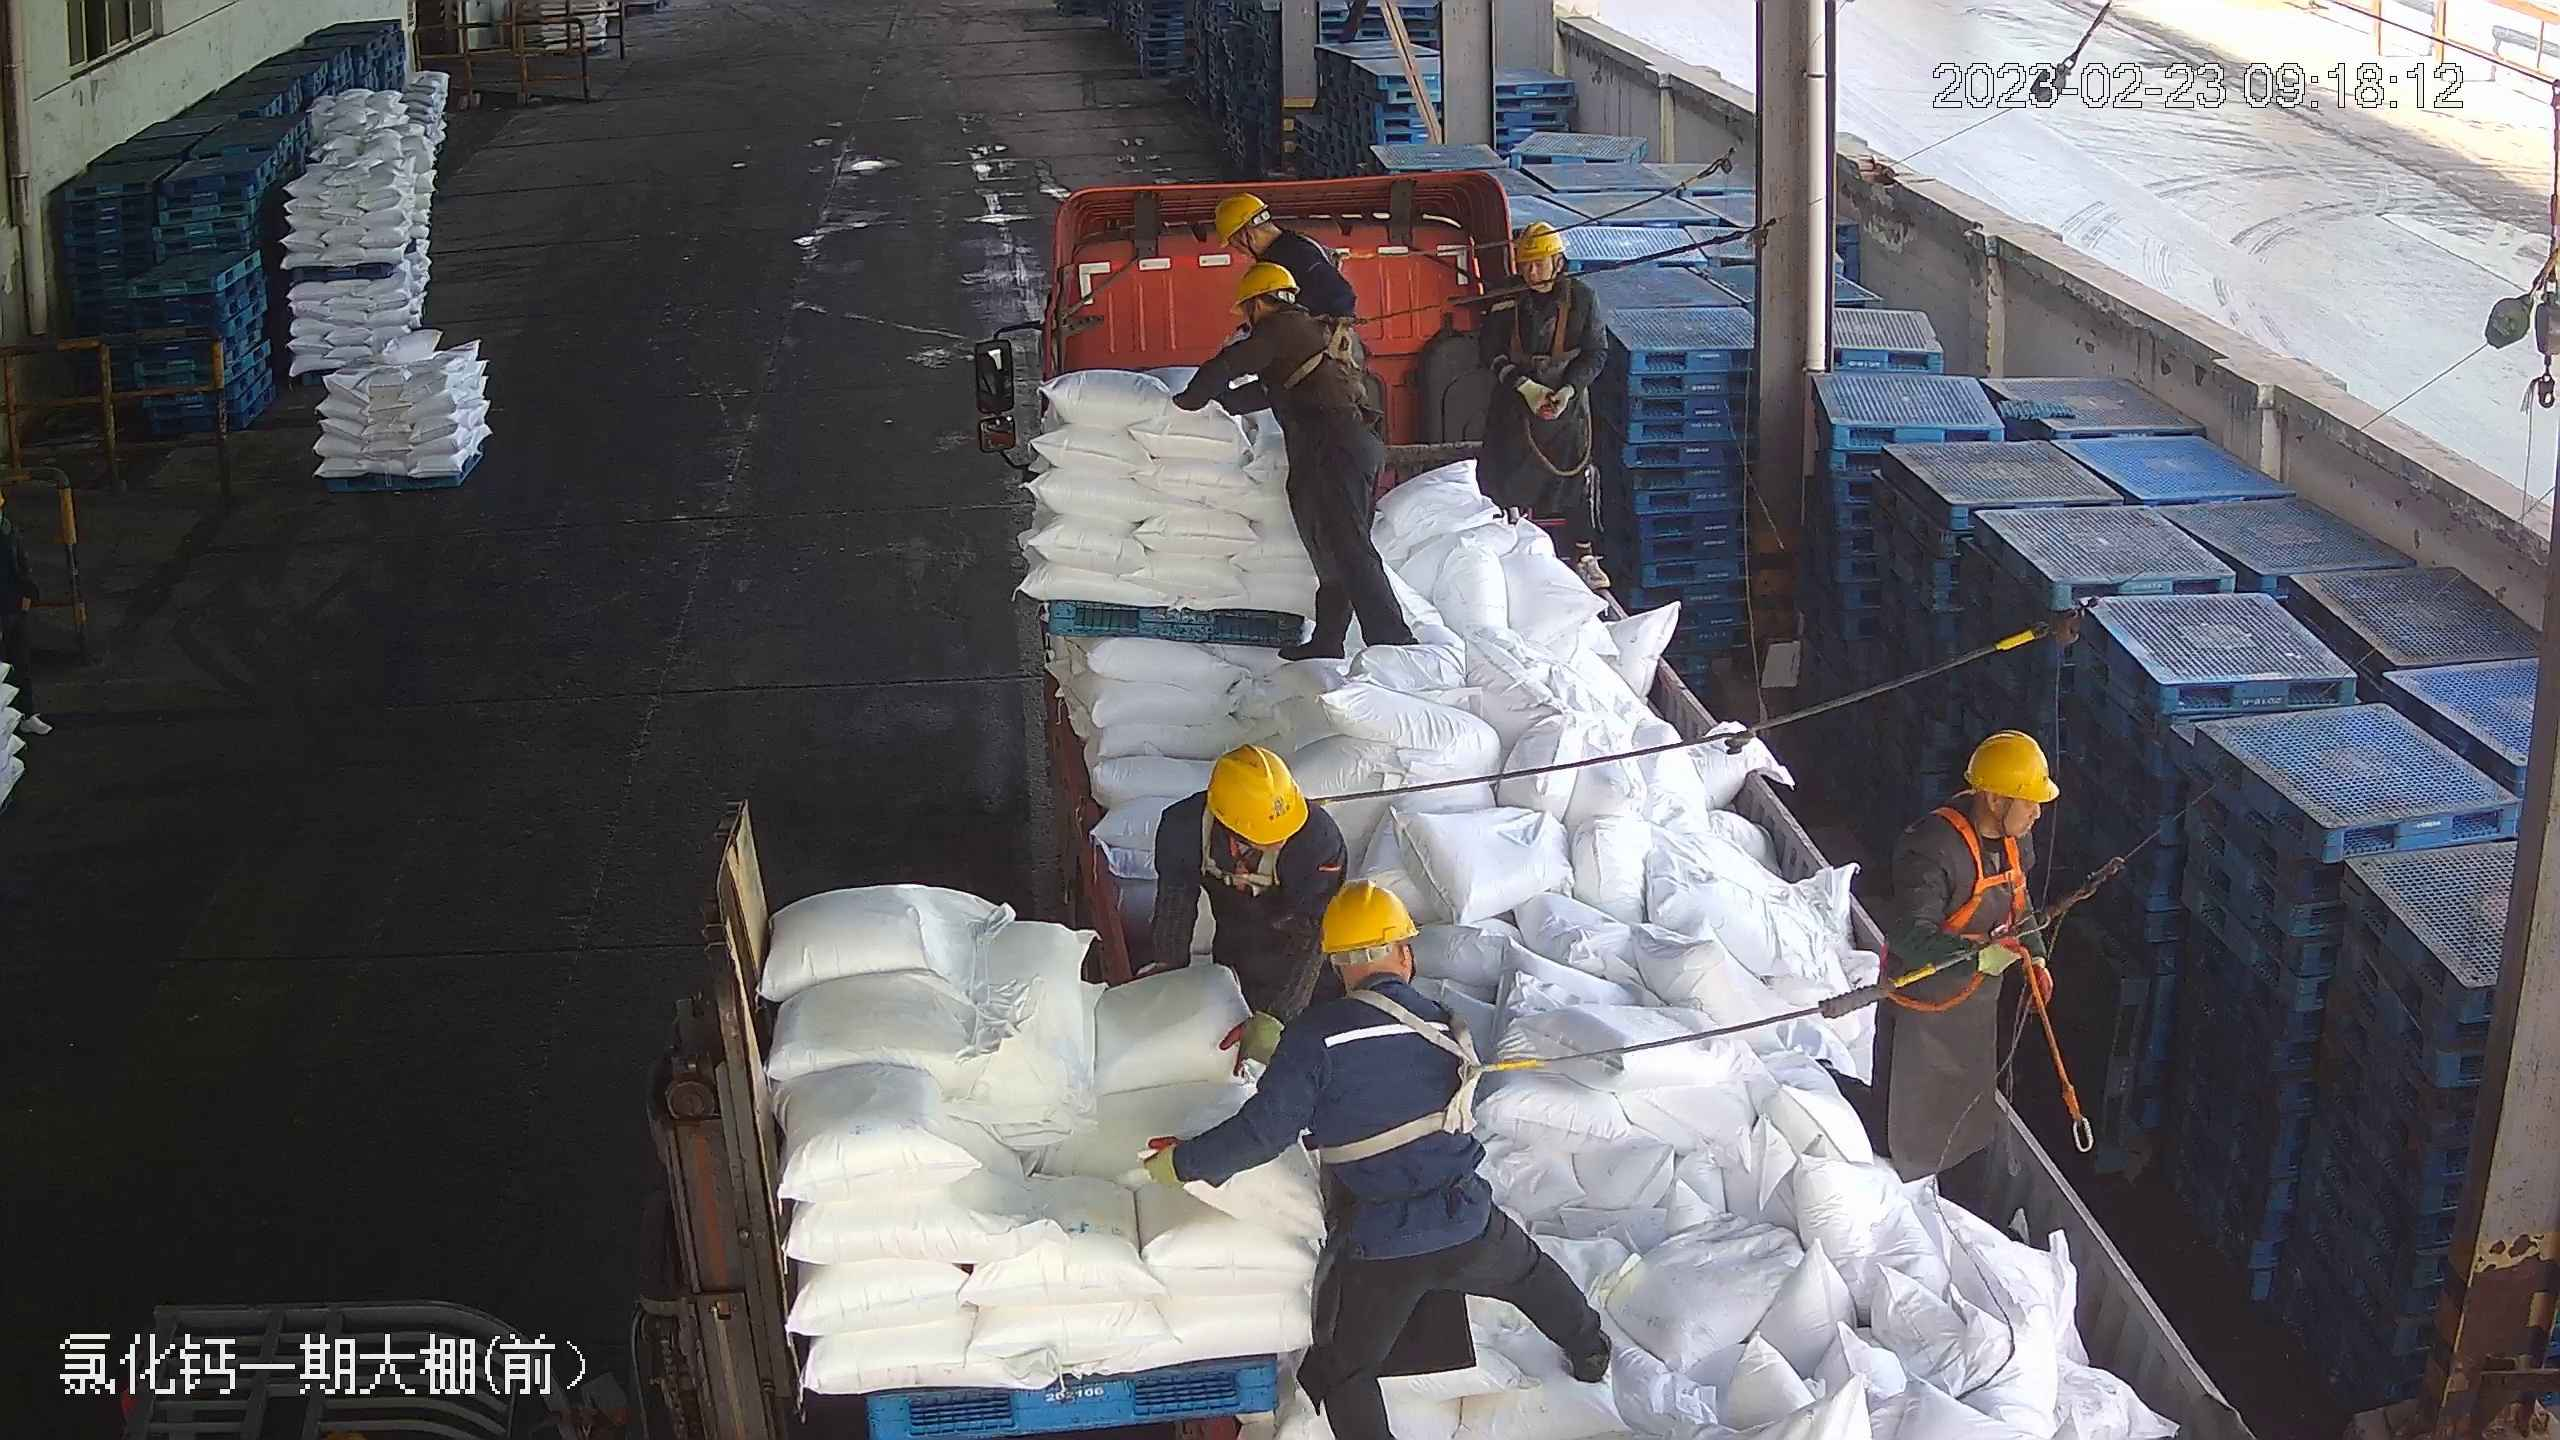belt: (1321, 987, 1546, 1159), (1911, 822, 2039, 978), (1274, 307, 1377, 394), (1208, 818, 1302, 904), (1503, 292, 1590, 371), (1299, 234, 1359, 281)
head: (1294, 879, 1476, 1070), (1906, 731, 2055, 880), (1182, 745, 1339, 885), (1217, 261, 1334, 372), (1497, 222, 1594, 324), (1209, 186, 1325, 271)
helmet: (1205, 741, 1304, 845), (1313, 879, 1418, 954), (1959, 726, 2063, 800), (1208, 189, 1270, 242), (1227, 260, 1295, 308), (1508, 220, 1568, 261)
people: (1156, 871, 1615, 1429), (1819, 723, 2071, 1231), (1175, 260, 1417, 671), (1168, 742, 1352, 1076), (1473, 218, 1613, 598)
truck: (979, 164, 2255, 1437)
